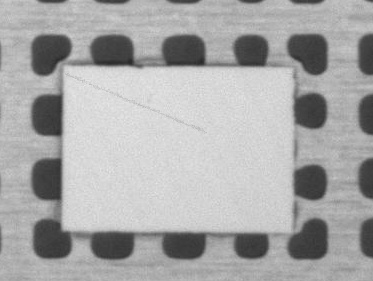DIE_CRACK: (88, 56, 273, 99)
